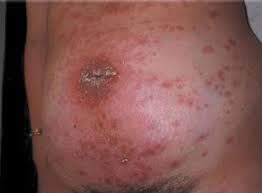herpes: (39, 17, 209, 109)
